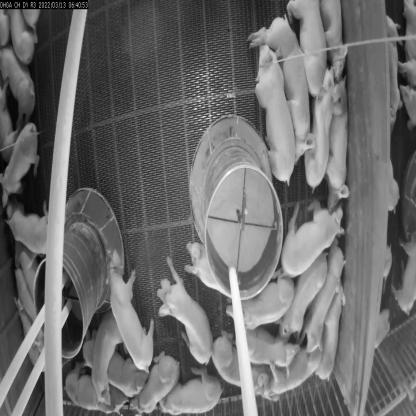Pig: (252, 6, 313, 164), (105, 250, 160, 376), (248, 44, 293, 192), (152, 262, 212, 368), (303, 238, 347, 348), (226, 272, 306, 331), (204, 325, 266, 401), (314, 274, 354, 382), (301, 63, 332, 202), (0, 122, 46, 214), (78, 340, 146, 401), (281, 256, 329, 342), (276, 198, 331, 270), (228, 313, 297, 369), (161, 355, 225, 415), (85, 307, 123, 401), (182, 226, 232, 296), (6, 200, 61, 260), (0, 42, 41, 116), (135, 355, 184, 415), (65, 363, 118, 415), (267, 348, 321, 394), (330, 95, 352, 200)
